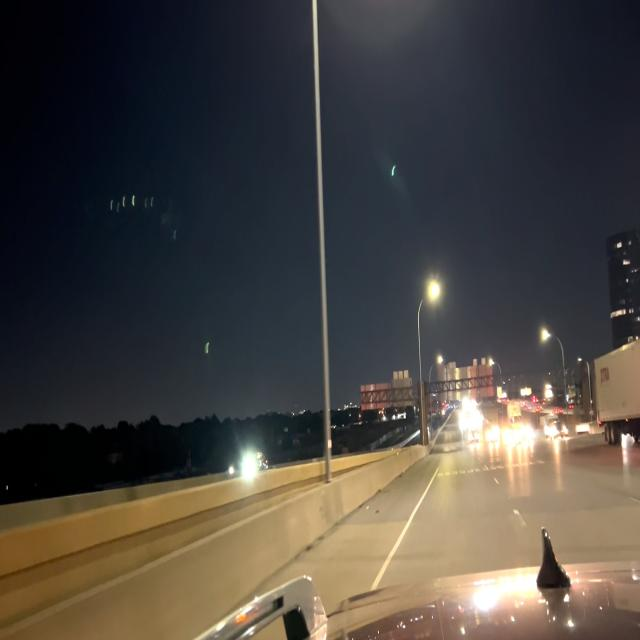back-of-sign: (359, 367, 416, 411), (436, 358, 495, 399)
